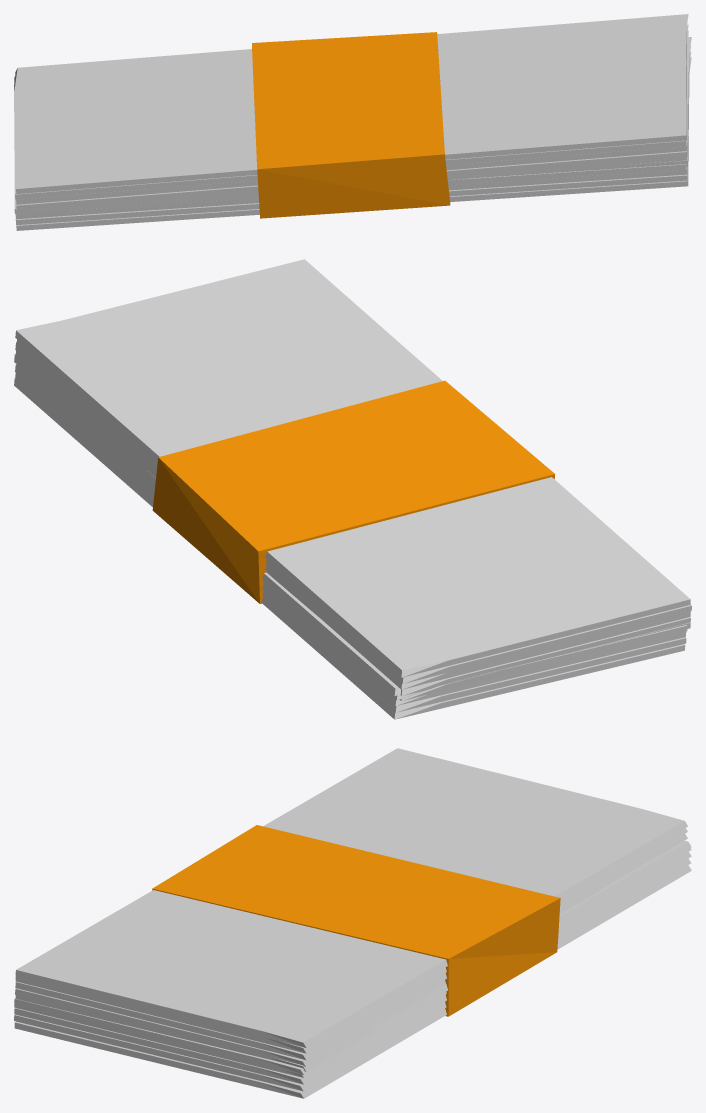
3 views of the same model, one above another, from view 1: azimuth 30°, elevation 25°; view 2: azimuth 150°, elevation 25°; view 3: azimuth 270°, elevation 25° (orthographic). The views are drawn at different scales.
Parts seen in each view (by area): view 1: mesh_1336915914, mesh_1138447206, mesh_2107114105, mesh_759862604, mesh_1531203134, mesh_1082893120, mesh_1053562959, mesh_743464945, mesh_1626490973, mesh_893850503, mesh_1548688542; view 2: mesh_1336915914, mesh_1138447206, mesh_1531203134, mesh_759862604, mesh_1053562959, mesh_1082893120, mesh_743464945, mesh_2107114105, mesh_1548688542, mesh_893850503, mesh_1626490973; view 3: mesh_1336915914, mesh_1138447206, mesh_1531203134, mesh_1548688542, mesh_743464945, mesh_759862604, mesh_1053562959, mesh_1082893120, mesh_2107114105, mesh_893850503, mesh_1626490973.
Boxes of the visible parts, x1,y1,x2,y2 form: mesh_1336915914: [15, 14, 688, 194]; mesh_1138447206: [252, 32, 450, 218]; mesh_2107114105: [16, 30, 688, 210]; mesh_759862604: [15, 51, 691, 225]; mesh_1531203134: [16, 57, 691, 230]; mesh_1082893120: [14, 76, 686, 199]; mesh_1053562959: [16, 24, 688, 204]; mesh_743464945: [15, 46, 690, 219]; mesh_1626490973: [16, 35, 688, 214]; mesh_893850503: [14, 164, 686, 214]; mesh_1548688542: [478, 37, 691, 177]; mesh_1336915914: [15, 259, 690, 677]; mesh_1138447206: [152, 380, 555, 603]; mesh_1531203134: [14, 378, 685, 719]; mesh_759862604: [15, 373, 686, 712]; mesh_1053562959: [15, 342, 690, 689]; mesh_1082893120: [16, 339, 691, 683]; mesh_743464945: [15, 364, 686, 705]; mesh_2107114105: [15, 350, 690, 696]; mesh_1548688542: [14, 354, 685, 695]; mesh_893850503: [16, 364, 687, 700]; mesh_1626490973: [15, 357, 690, 701]; mesh_1336915914: [15, 748, 687, 1047]; mesh_1138447206: [152, 825, 560, 1016]; mesh_1531203134: [14, 865, 691, 1098]; mesh_1548688542: [14, 840, 691, 1074]; mesh_743464945: [14, 851, 691, 1084]; mesh_759862604: [14, 858, 690, 1091]; mesh_1053562959: [15, 834, 687, 1060]; mesh_1082893120: [15, 828, 687, 1053]; mesh_2107114105: [15, 877, 621, 1066]; mesh_893850503: [14, 848, 691, 1077]; mesh_1626490973: [15, 995, 373, 1071].
Bounding box in the file's own units: 126 × 18.26 × 101.
